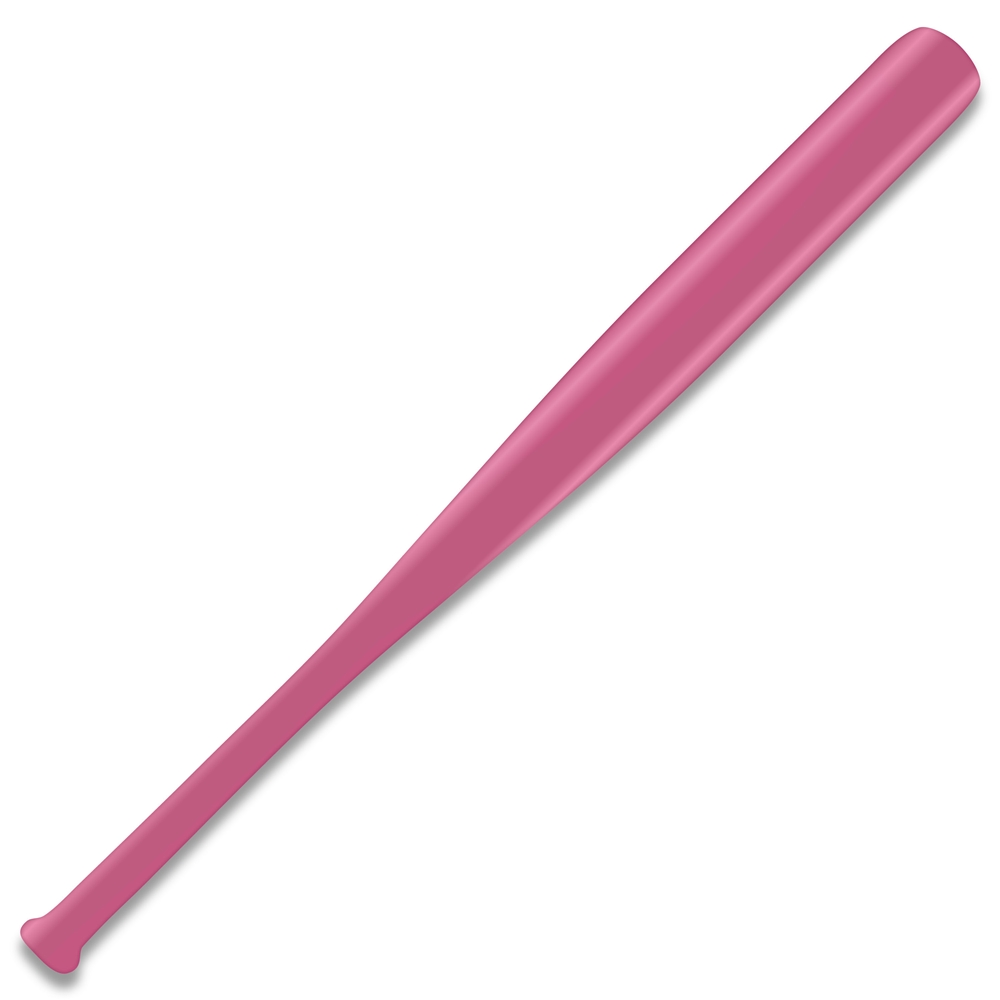bat: (31, 15, 984, 973)
